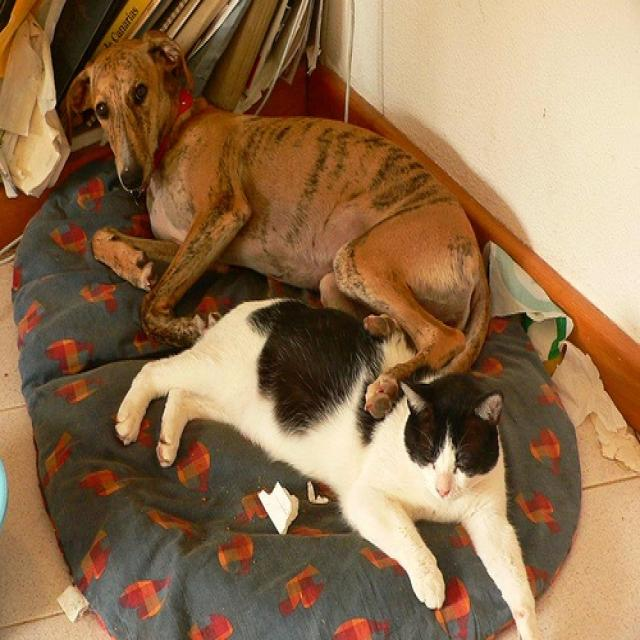cat: (112, 295, 540, 639)
dog: (65, 35, 496, 423)
